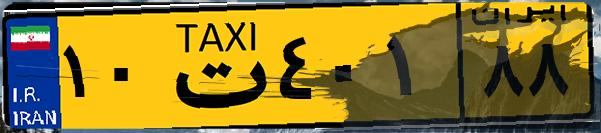0: (330, 28, 385, 110), (110, 28, 158, 98)
1: (385, 28, 445, 110), (57, 26, 110, 100)
4: (270, 28, 330, 110)
8: (475, 38, 525, 113), (525, 38, 570, 115)
ت: (158, 12, 270, 120)
